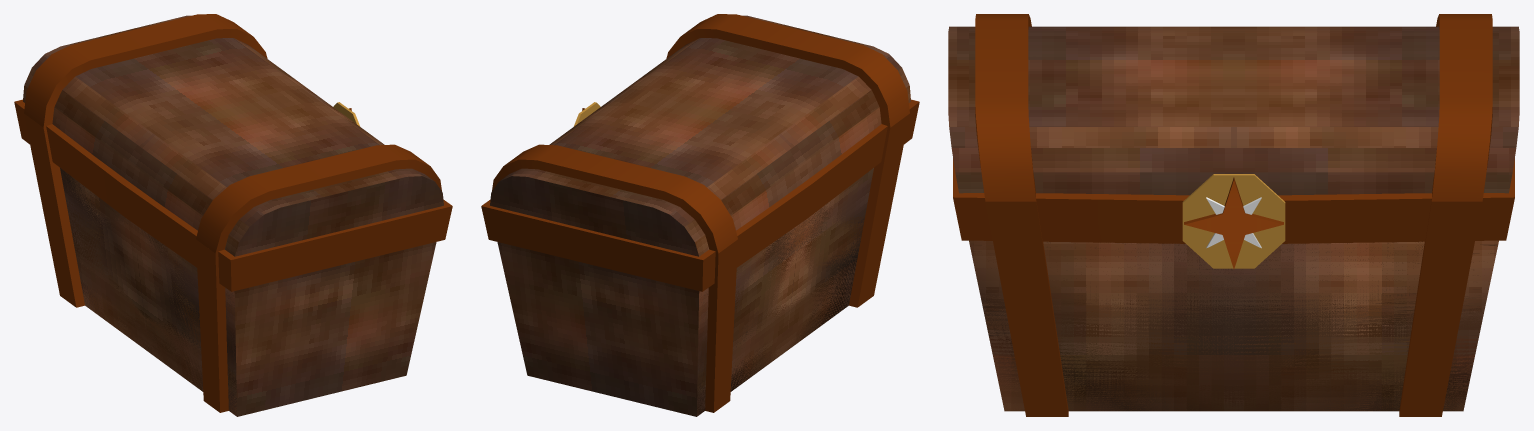
Rendered from code_chest.glb.
3 renders of one model, left to right at view 1: azimuth 30°, elevation 25°; view 2: azimuth 150°, elevation 25°; view 3: azimuth 270°, elevation 25°, orthographic. The views are drawn at different scales.
Parts seen in each view (by area): view 1: code_chest_top, code_chest_bot; view 2: code_chest_top, code_chest_bot; view 3: code_chest_top, code_chest_bot.
Boxes of the visible parts, x1,y1,x2,y2 form: code_chest_top: (14, 14, 452, 291); code_chest_bot: (24, 113, 436, 416); code_chest_top: (481, 14, 919, 291); code_chest_bot: (497, 113, 909, 416); code_chest_top: (948, 14, 1519, 268); code_chest_bot: (969, 201, 1498, 416).
Bounding box in the file's own units: 0.6529 × 0.6161 × 1.07.
5 materials, 3 textured.
